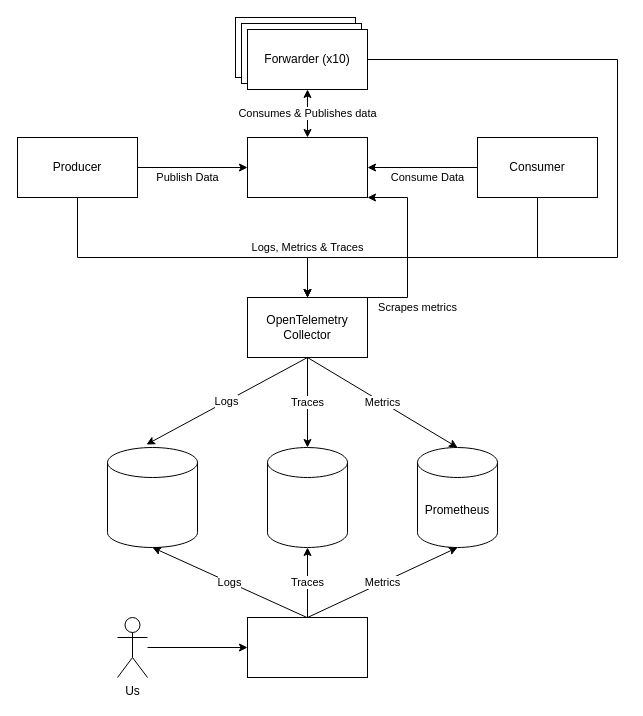
Some shapes in this 643 by 716 pixel diagram are drawn without their labels. Here are the shapes that lost their labels. From the top down, the box of each, then its label:
(246, 136, 368, 198): RabbitMq
(106, 446, 198, 548): Loki
(266, 446, 348, 548): Tempo
(246, 616, 368, 678): Grafana
